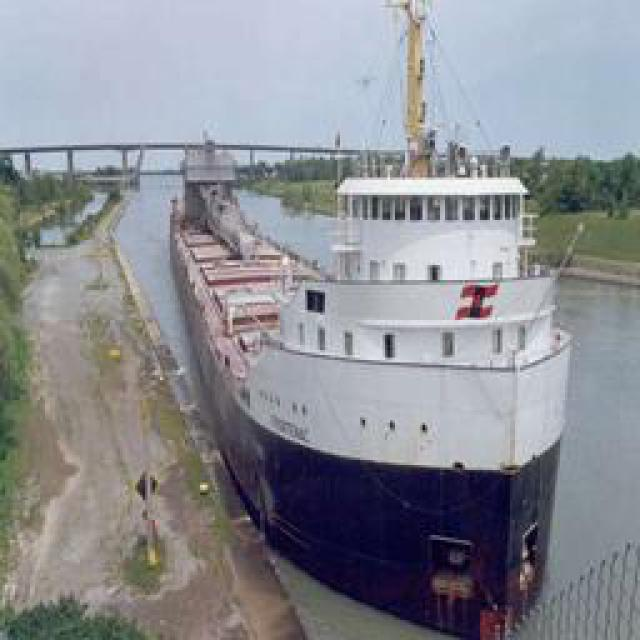Ship: (168, 107, 576, 630)
